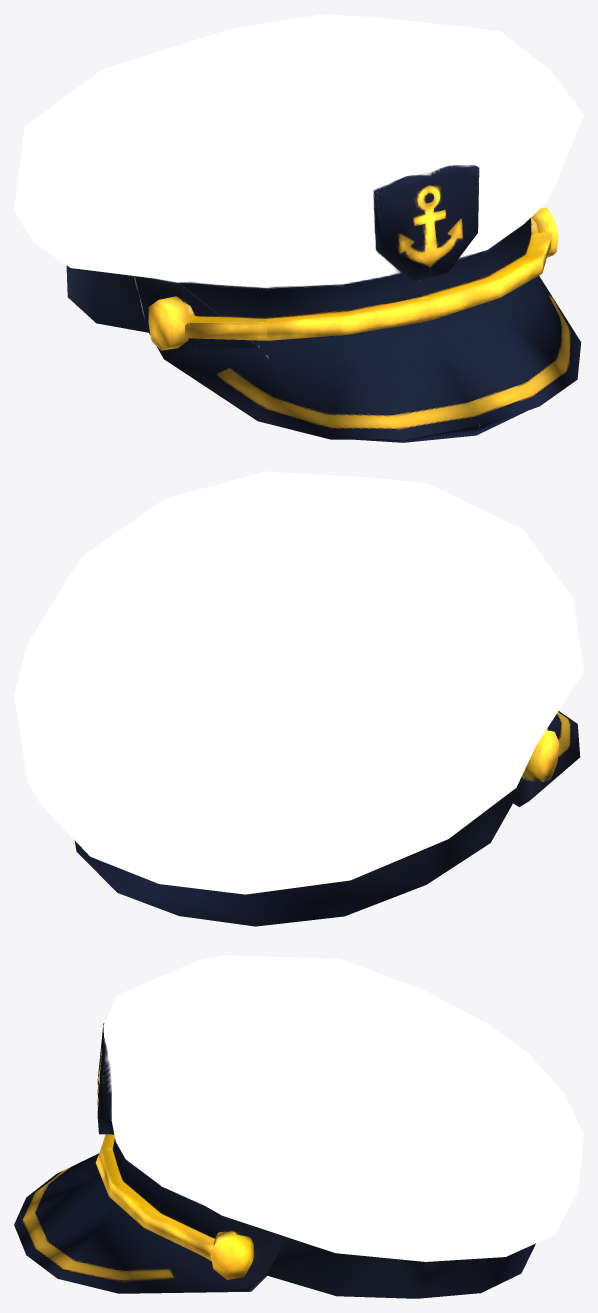
File: Hat_Captain.fbx
The picture shows the model from 3 angles, top to bottom: view 1: azimuth 30°, elevation 25°; view 2: azimuth 150°, elevation 25°; view 3: azimuth 270°, elevation 25°; orthographic projection. The views are drawn at different scales.
Parts seen in each view (by area): view 1: mesh_node; view 2: mesh_node; view 3: mesh_node.
Part boxes in pixels (<box>): mesh_node: <box>14,14,583,442</box>; mesh_node: <box>14,471,583,926</box>; mesh_node: <box>14,955,583,1298</box>.
Size of the model in its own units: 85.94 by 49.32 by 99.61.
Materials: 1 (1 with a texture image).
